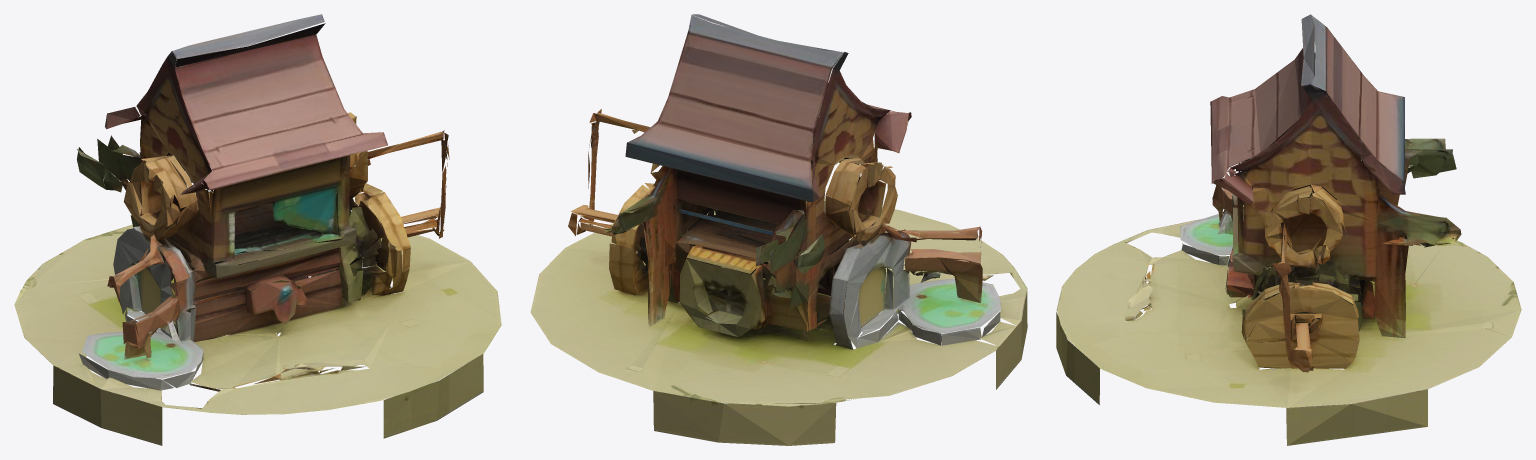
The model's file is windmill.glb.
The picture shows the model from 3 angles, left to right: view 1: azimuth 30°, elevation 25°; view 2: azimuth 150°, elevation 25°; view 3: azimuth 270°, elevation 25°; orthographic projection. The views are drawn at different scales.
Parts seen in each view (by area): view 1: geometry_0; view 2: geometry_0; view 3: geometry_0.
Part boxes in pixels (bbox=[...]): geometry_0: bbox=[14, 14, 501, 445]; geometry_0: bbox=[530, 14, 1027, 445]; geometry_0: bbox=[1056, 14, 1521, 445].
Size of the model in its own units: 0.9548 by 0.6723 by 0.9526.
1 material, 1 textured.
